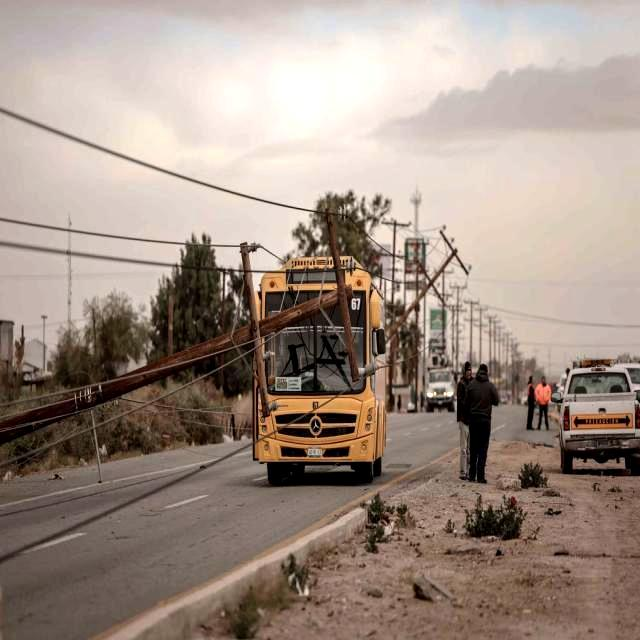Broken Pole: (0, 200, 374, 444)
